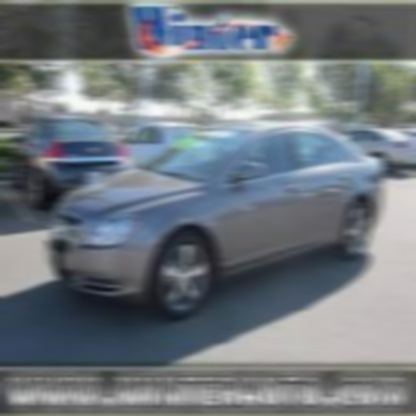Vehicle: (43, 114, 389, 317)
